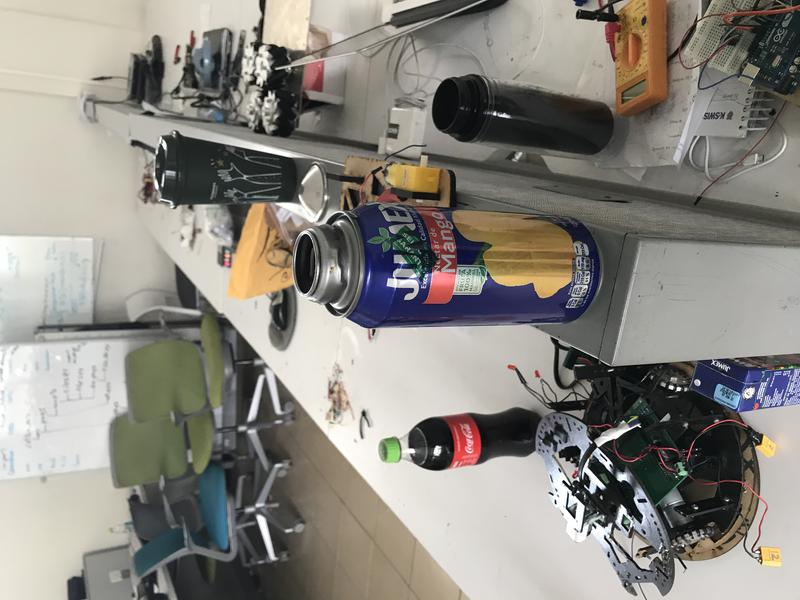coca_cola: (378, 408, 542, 471)
jumex_botella: (290, 201, 608, 329)
jumex_cajita: (688, 354, 800, 412)
